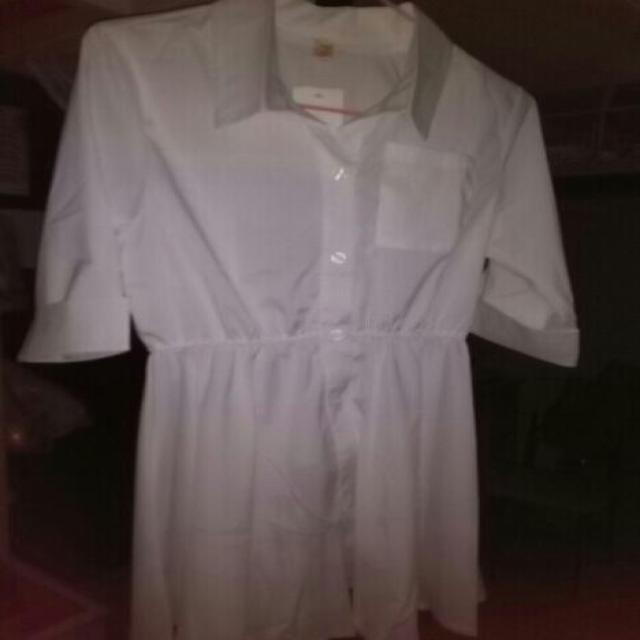short-sleeve-dress: (33, 2, 605, 634)
